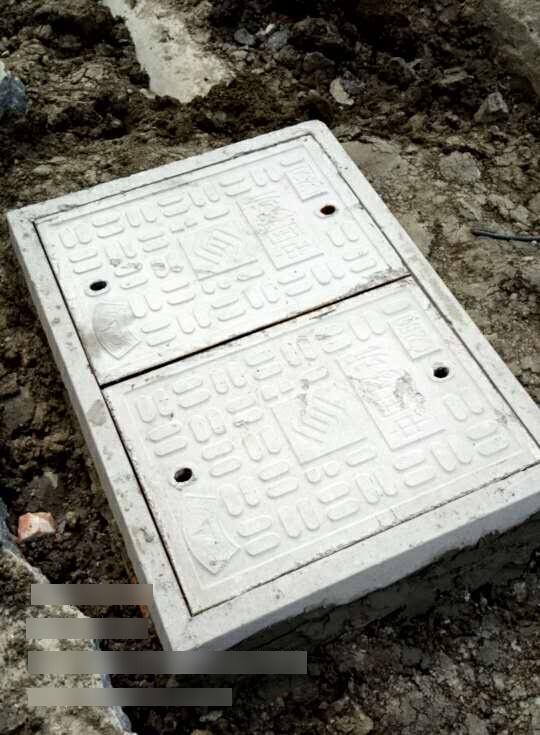well: (11, 130, 540, 665)
